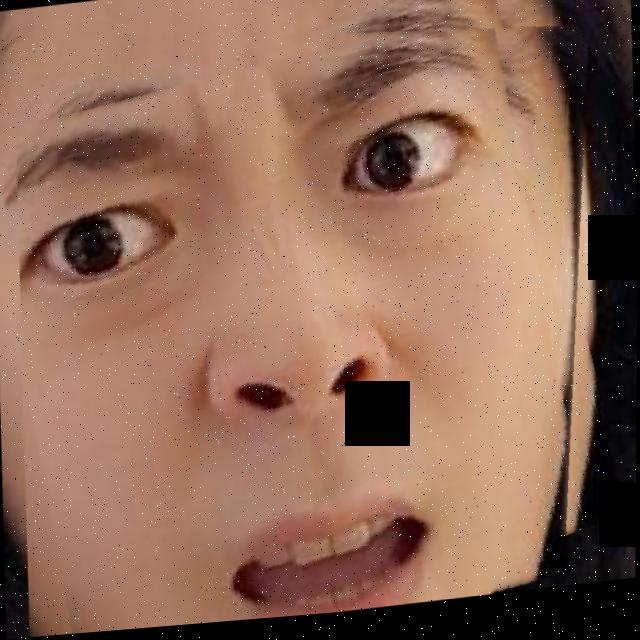anger: (9, 0, 609, 639)
